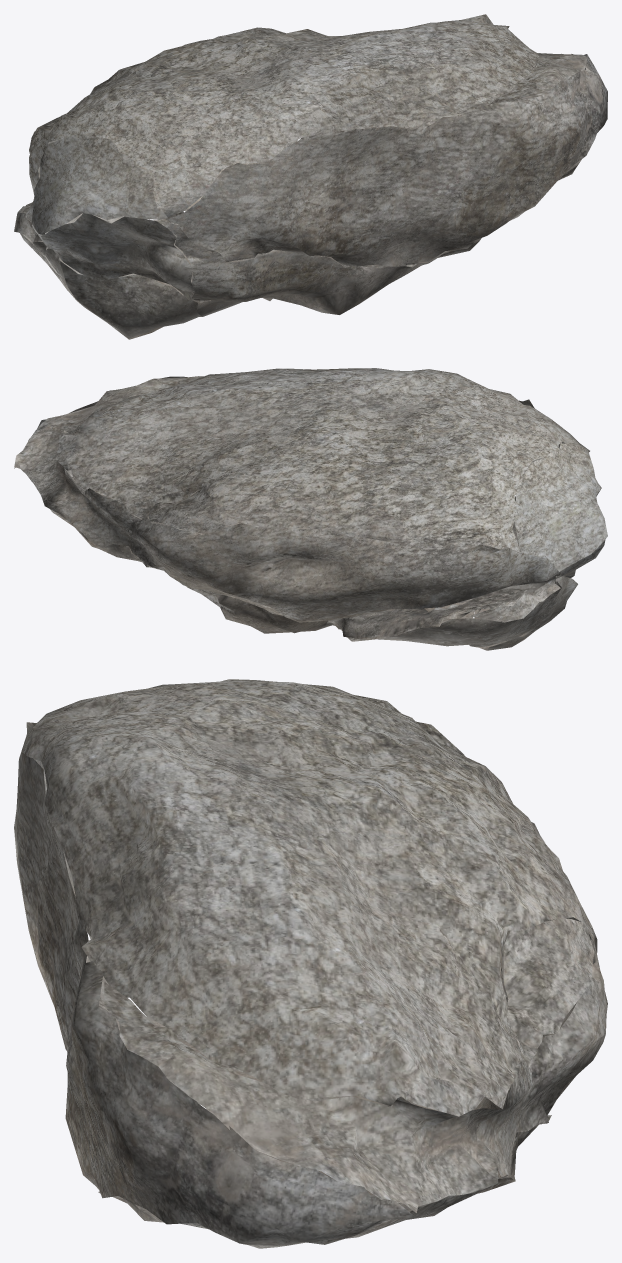
The model's file is granite_boulder_d.gltf.
3 views of the same model, one above another, from view 1: azimuth 30°, elevation 25°; view 2: azimuth 150°, elevation 25°; view 3: azimuth 270°, elevation 25° (orthographic). The views are drawn at different scales.
Parts seen in each view (by area): view 1: granite_boulder_d; view 2: granite_boulder_d; view 3: granite_boulder_d.
Boxes of the visible parts, x1,y1,x2,y2 form: granite_boulder_d: [14, 14, 607, 339]; granite_boulder_d: [14, 368, 607, 650]; granite_boulder_d: [14, 679, 607, 1248].
Size of the model in its own units: 1.36 by 0.5323 by 0.7409.
1 material, 1 textured.
